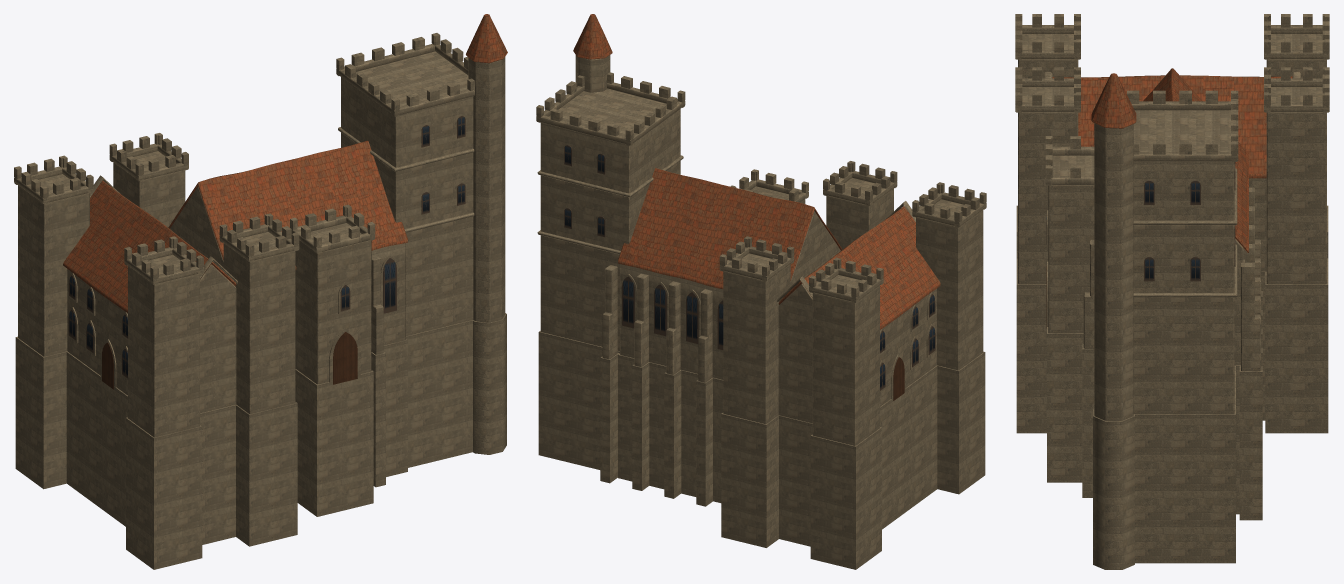
File: palace.glb
3 renders of one model, left to right at view 1: azimuth 30°, elevation 25°; view 2: azimuth 150°, elevation 25°; view 3: azimuth 270°, elevation 25°, orthographic. The views are drawn at different scales.
Parts seen in each view (by area): view 1: palace_export; view 2: palace_export; view 3: palace_export.
Part boxes in pixels (x1,y1,x2,y2): palace_export: (14,14,507,569); palace_export: (536,14,986,569); palace_export: (1015,14,1329,569).
Size of the model in its own units: 68 by 71.1 by 41.62.
Materials: 4 (4 with a texture image).
